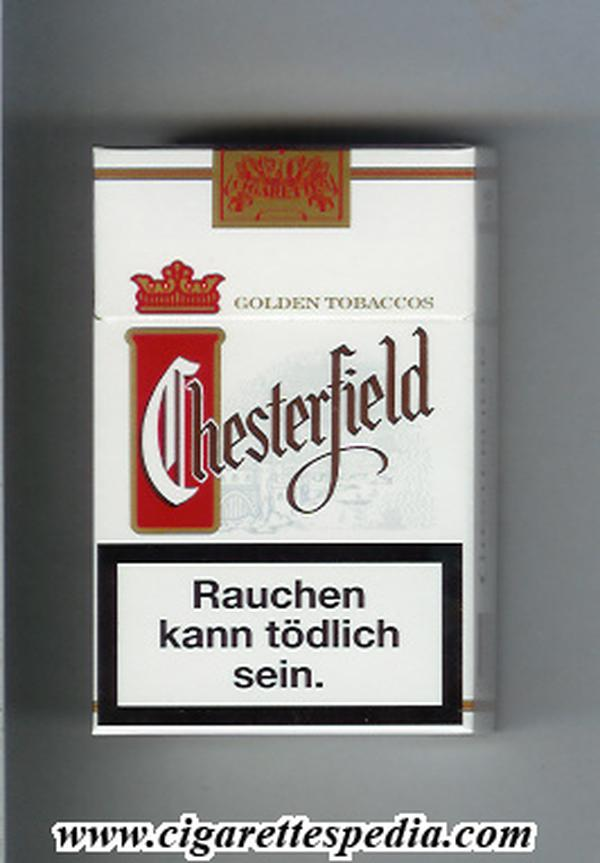chesterfield_red: (96, 150, 472, 731)
